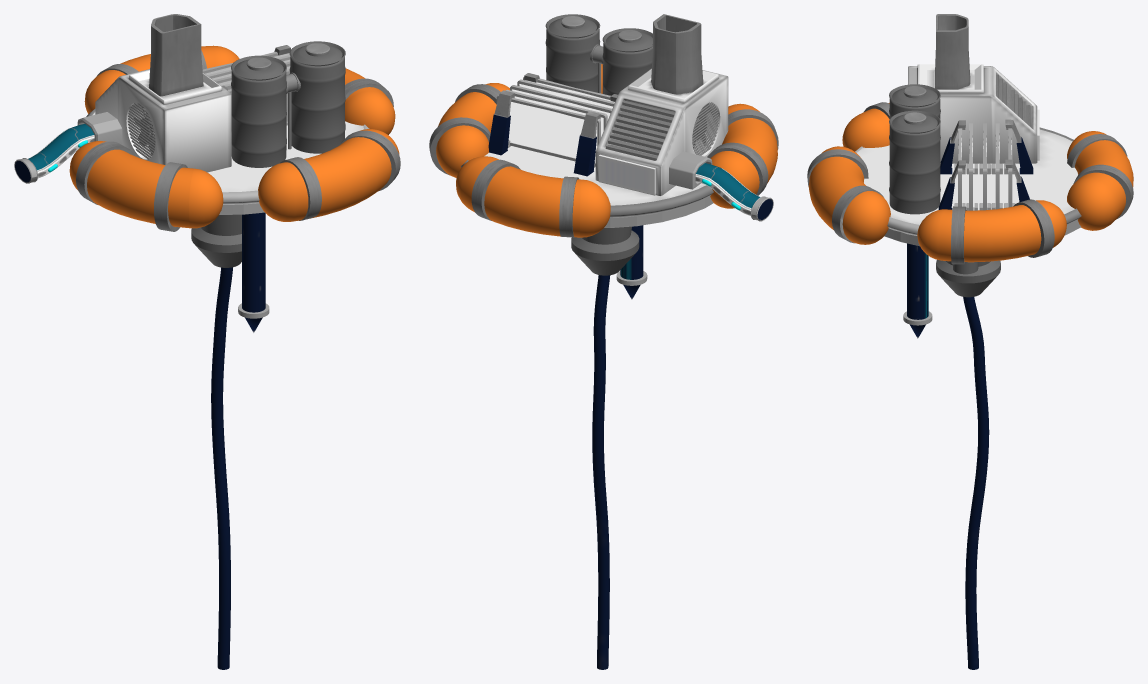
Rendered from Carbon_Filter_Unity.fbx.
The picture shows the model from 3 angles, left to right: view 1: azimuth 30°, elevation 25°; view 2: azimuth 150°, elevation 25°; view 3: azimuth 270°, elevation 25°; orthographic projection. The views are drawn at different scales.
Parts seen in each view (by area): view 1: Cube.476; view 2: Cube.476; view 3: Cube.476.
Boxes of the visible parts, bbox=[...] form: Cube.476: bbox=[14, 14, 400, 669]; Cube.476: bbox=[429, 14, 778, 669]; Cube.476: bbox=[807, 14, 1133, 669].
Size of the model in its own units: 2004 by 3730 by 1789.
